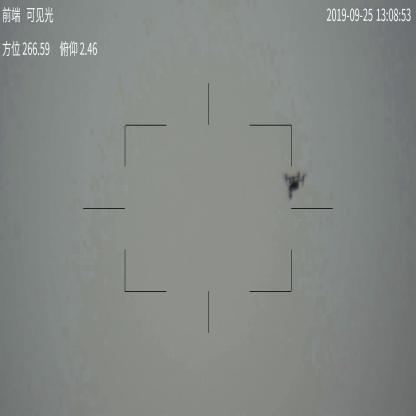uav: (282, 171, 308, 200)
